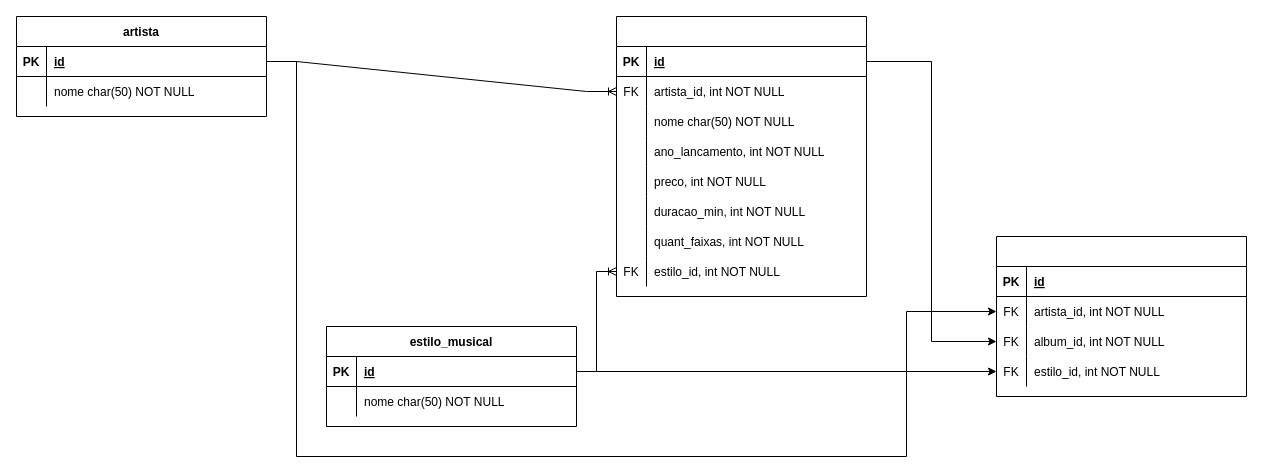
Some shapes in this 1263 by 473 pixel diagram are drawn without their labels. The box of each missing label's shape, as (x1, y1, x2, y2) in pixels:
album: (616, 16, 866, 296)
faixas: (996, 236, 1246, 396)
